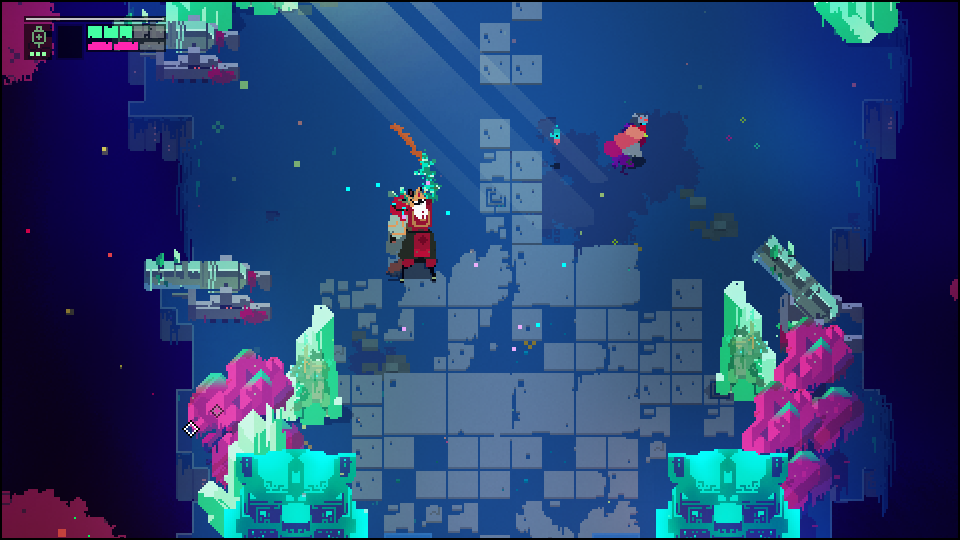hanged_man: (384, 155, 440, 278)
player: (609, 114, 653, 176)
